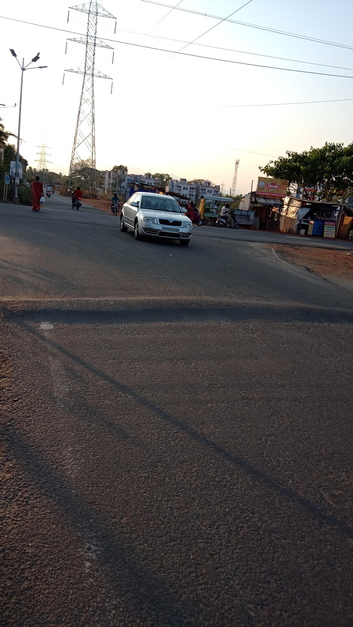bump: (1, 295, 353, 325)
